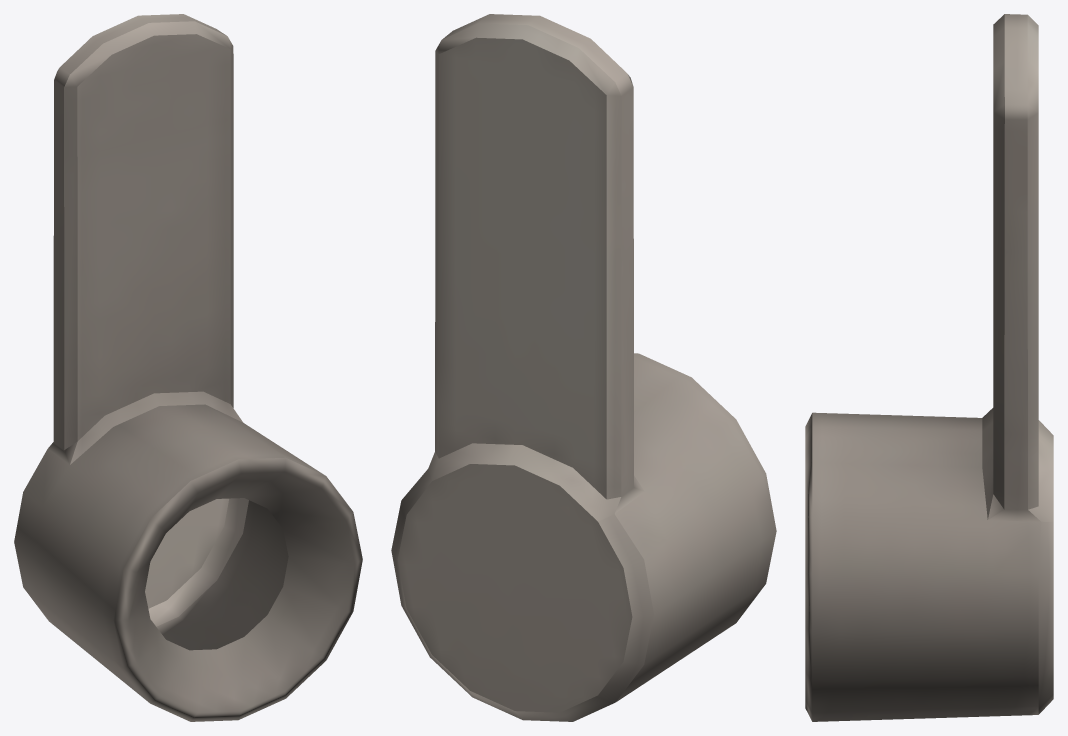
Rendered from JapaneseRestaurant_SinkHandle.fbx.
3 renders of one model, left to right at view 1: azimuth 30°, elevation 25°; view 2: azimuth 150°, elevation 25°; view 3: azimuth 270°, elevation 25°, orthographic. The views are drawn at different scales.
Parts seen in each view (by area): view 1: JapaneseRestaurant_SinkHandle; view 2: JapaneseRestaurant_SinkHandle; view 3: JapaneseRestaurant_SinkHandle.
Boxes of the visible parts, box(x1,y1,x2,y2) form: JapaneseRestaurant_SinkHandle: box(14, 14, 362, 721); JapaneseRestaurant_SinkHandle: box(391, 14, 776, 721); JapaneseRestaurant_SinkHandle: box(805, 14, 1053, 721).
Size of the model in its own units: 4.92 by 11.93 by 3.95.
